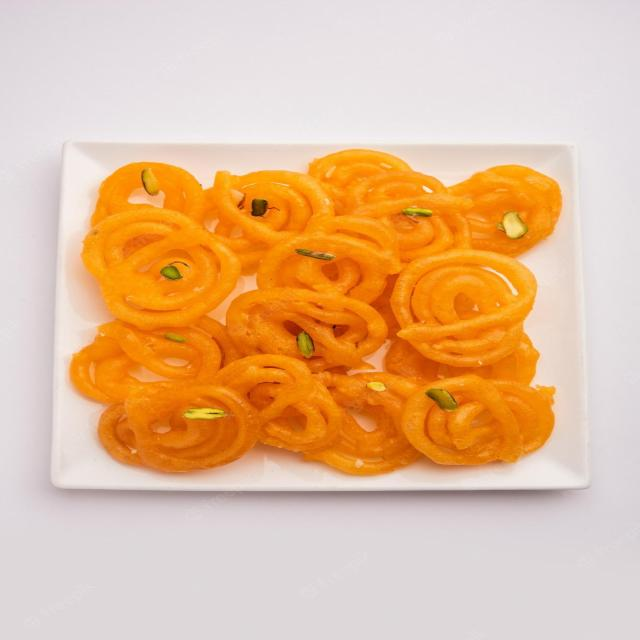jalebi: (86, 159, 564, 470)
